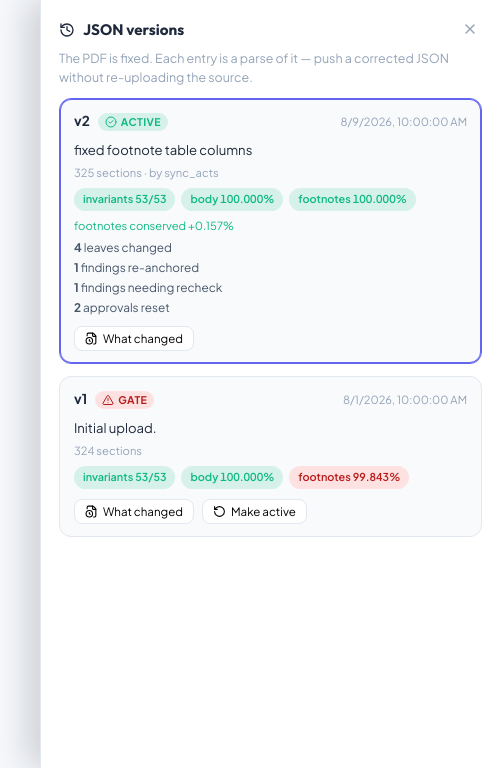
Test: VersionPanel › explains rather than errors when the first version has nothing to compare with
Click the button "What changed" below "gate": (134, 511) left=74, top=499, right=194, bottom=524
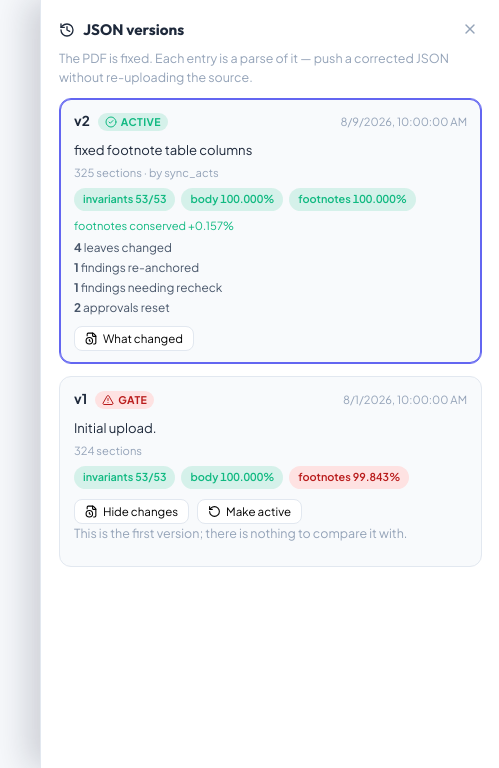
Check: the text "nothing to compare it with" is shown, box left=74, top=525, right=407, bottom=541
